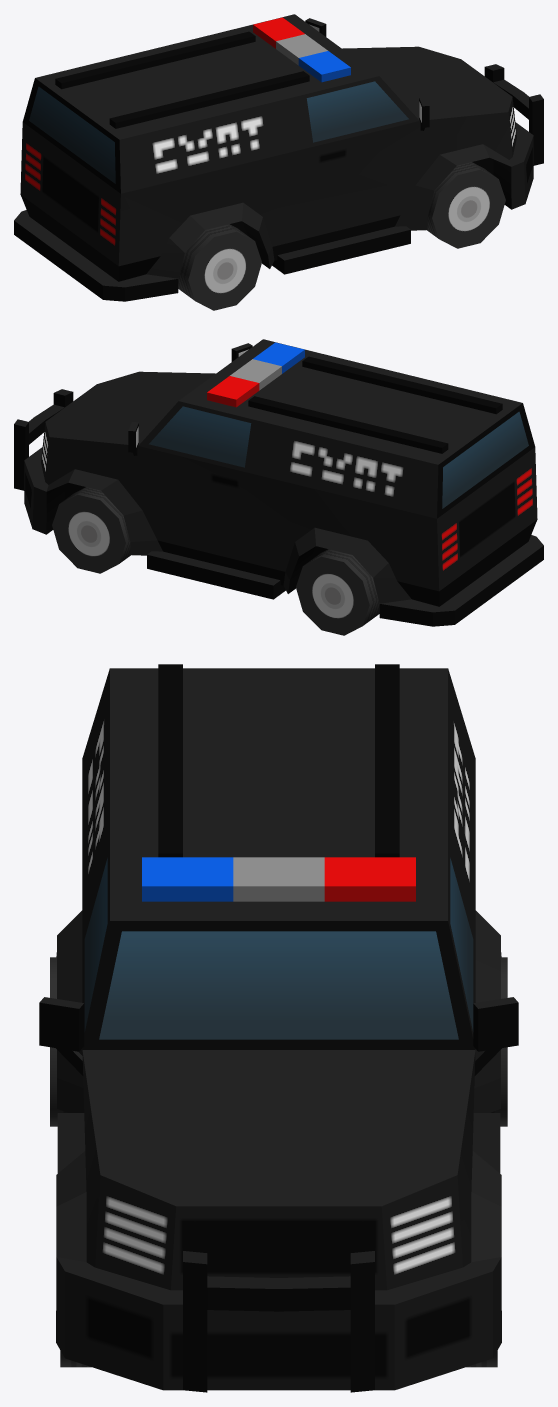
File: Emergency_017.glb
3 renders of one model, top to bottom at view 1: azimuth 30°, elevation 25°; view 2: azimuth 150°, elevation 25°; view 3: azimuth 270°, elevation 25°, orthographic. The views are drawn at different scales.
Parts seen in each view (by area): view 1: Emergency_017, wheel_3_Emergency_017_Wheel_2R, wheel_1_Emergency_017_Wheel_1R; view 2: Emergency_017, wheel_2_Emergency_017_Wheel_2L, wheel_0_Emergency_017_Wheel_1L; view 3: Emergency_017, wheel_2_Emergency_017_Wheel_2L, wheel_3_Emergency_017_Wheel_2R.
Part boxes in pixels (x1=…): Emergency_017: x1=14, y1=14, x2=543, y2=301; wheel_3_Emergency_017_Wheel_2R: x1=178, y1=224, x2=261, y2=310; wheel_1_Emergency_017_Wheel_1R: x1=427, y1=162, x2=505, y2=248; Emergency_017: x1=14, y1=339, x2=543, y2=626; wheel_2_Emergency_017_Wheel_2L: x1=296, y1=549, x2=379, y2=635; wheel_0_Emergency_017_Wheel_1L: x1=52, y1=487, x2=130, y2=573; Emergency_017: x1=39, y1=664, x2=518, y2=1392; wheel_2_Emergency_017_Wheel_2L: x1=490, y1=957, x2=507, y2=1126; wheel_3_Emergency_017_Wheel_2R: x1=50, y1=957, x2=67, y2=1126.
Size of the model in its own units: 4.86 by 1.87 by 2.17.
Materials: 1 (1 with a texture image).
